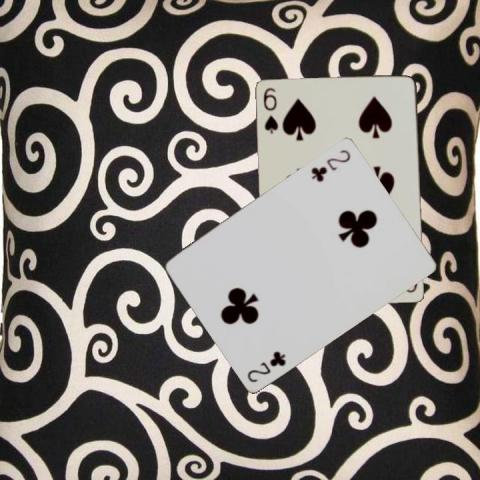2c: (308, 146, 353, 183), (244, 347, 287, 384)
6s: (261, 85, 280, 136)
